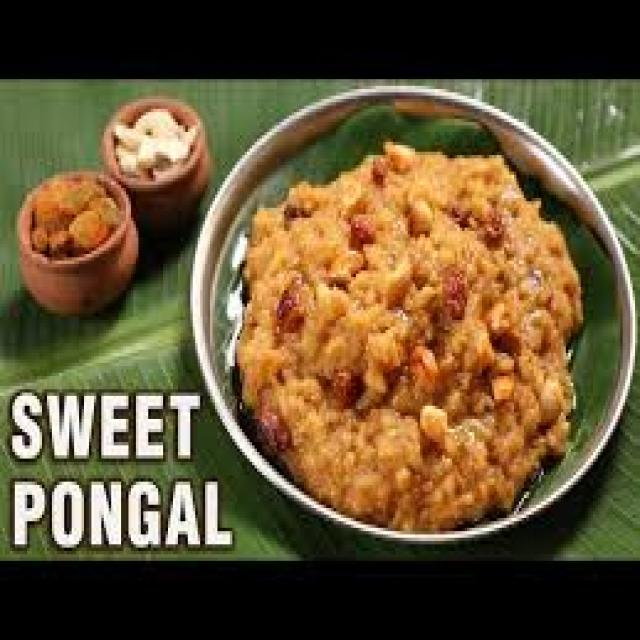PONGAL: (242, 142, 581, 528)
